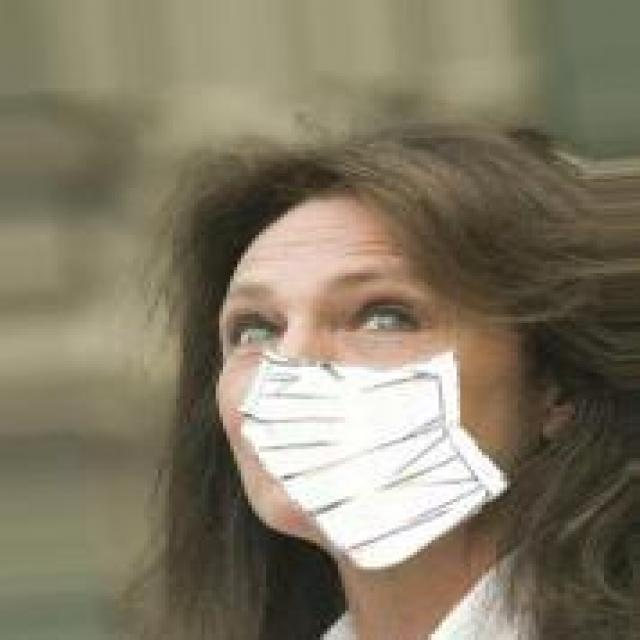mask: (184, 74, 636, 582)
